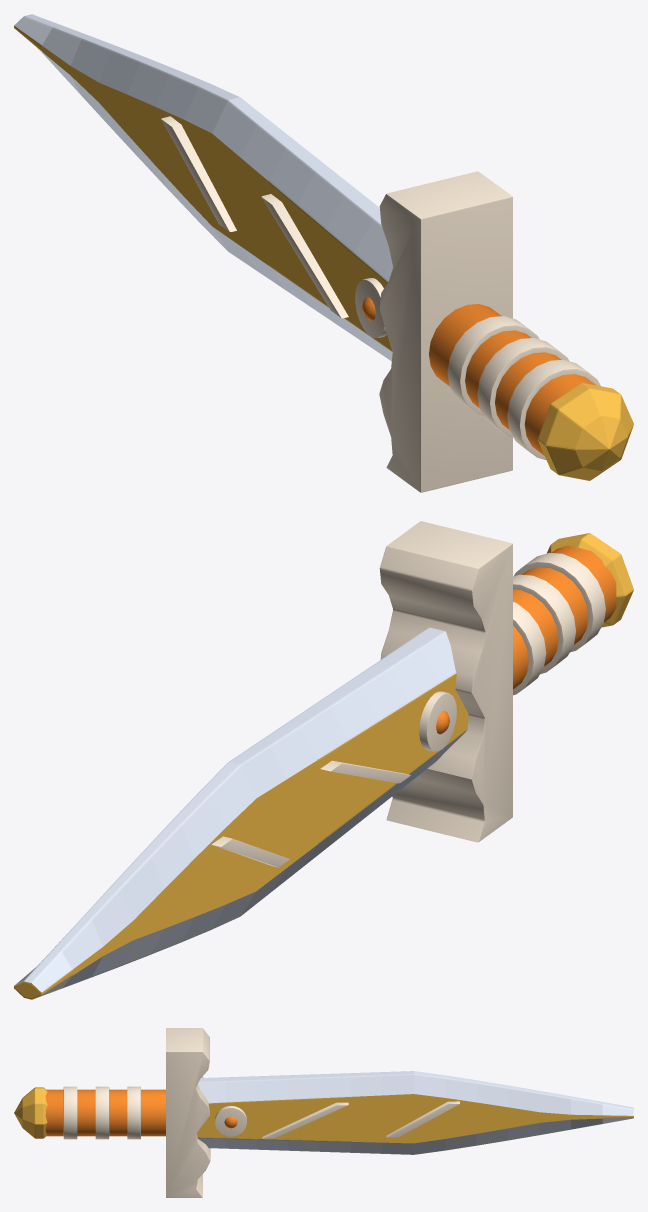
File: Sword_DuneglassEdge.glb
The picture shows the model from 3 angles, top to bottom: view 1: azimuth 30°, elevation 25°; view 2: azimuth 150°, elevation 25°; view 3: azimuth 270°, elevation 25°; orthographic projection. The views are drawn at different scales.
Visible parts, largest first — view 1: Sword_DuneglassEdge; view 2: Sword_DuneglassEdge; view 3: Sword_DuneglassEdge.
Boxes of the visible parts, x1,y1,x2,y2 form: Sword_DuneglassEdge: (14, 14, 633, 492); Sword_DuneglassEdge: (14, 521, 633, 999); Sword_DuneglassEdge: (14, 1028, 633, 1197).
Bounding box in the file's own units: 0.092 × 0.26 × 1.
Materials: 1 (1 with a texture image).
